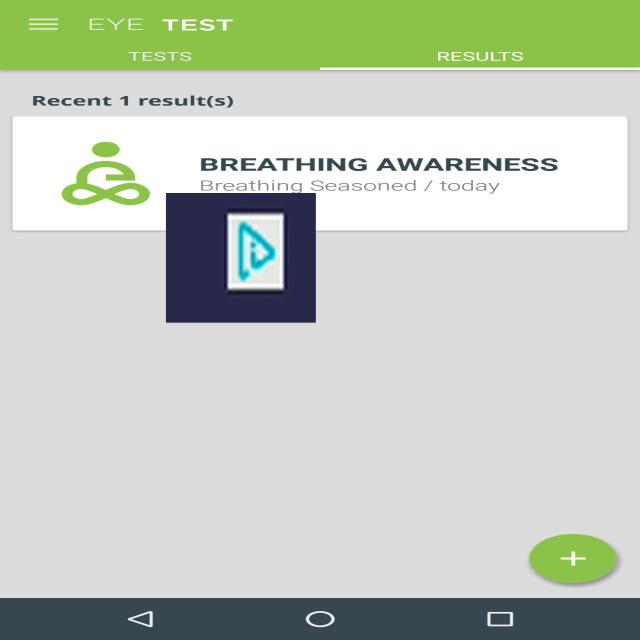sneaking: (166, 193, 316, 323)
